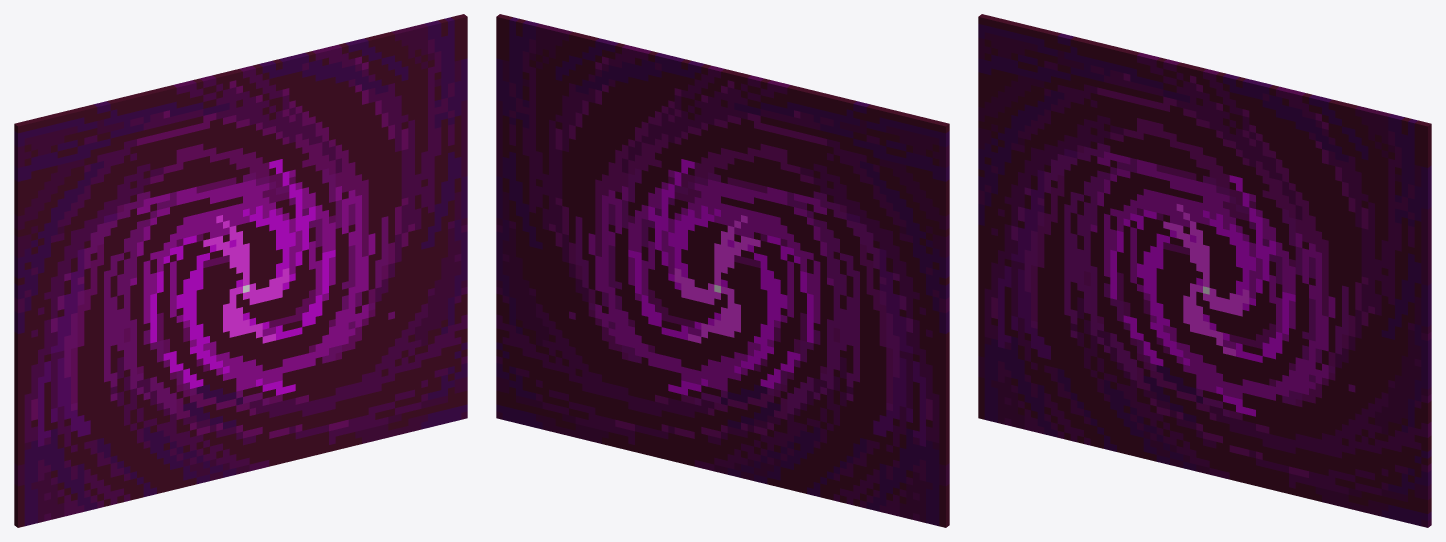
Rendered from Portal galaxie.obj.
3 renders of one model, left to right at view 1: azimuth 30°, elevation 25°; view 2: azimuth 150°, elevation 25°; view 3: azimuth 330°, elevation 25°, orthographic.
Parts seen in each view (by area): view 1: Portal galaxie; view 2: Portal galaxie; view 3: Portal galaxie.
Boxes of the visible parts, <box> form: Portal galaxie: <box>14,14,467,527</box>; Portal galaxie: <box>496,14,949,527</box>; Portal galaxie: <box>978,14,1431,527</box>.
Bounding box in the file's own units: 68 × 58 × 1.
Materials: 1 (1 with a texture image).
